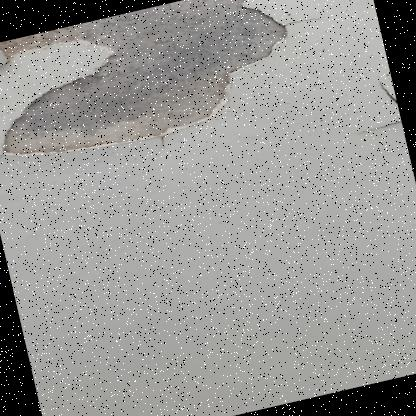Crack: (0, 0, 396, 194), (316, 68, 415, 226)
